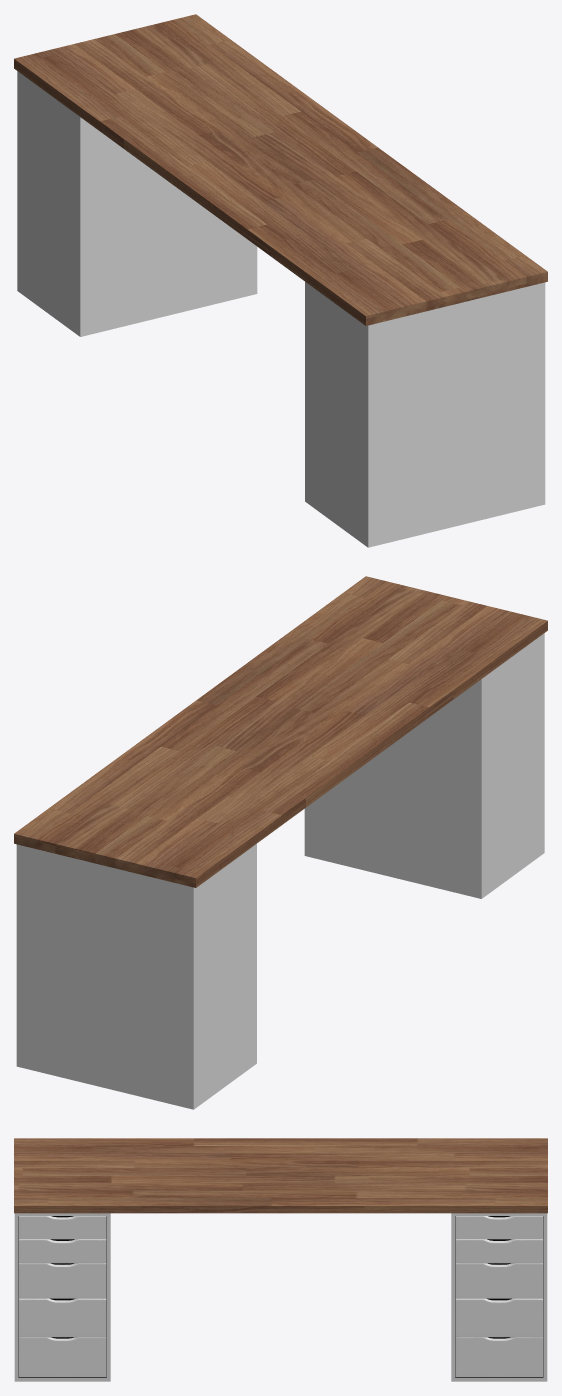
The model's file is alex_desk_0.6Dx2Wx0.73H-transformed.glb.
The picture shows the model from 3 angles, top to bottom: view 1: azimuth 30°, elevation 25°; view 2: azimuth 150°, elevation 25°; view 3: azimuth 270°, elevation 25°; orthographic projection. The views are drawn at different scales.
Visible parts, largest first — view 1: Plane; view 2: Plane; view 3: Plane.
Part boxes in pixels (bbox=[...]): Plane: bbox=[14, 14, 547, 547]; Plane: bbox=[14, 576, 547, 1109]; Plane: bbox=[14, 1138, 547, 1381].
Size of the model in its own units: 23.52 by 28.71 by 78.75.
Materials: 3 (1 with a texture image).
